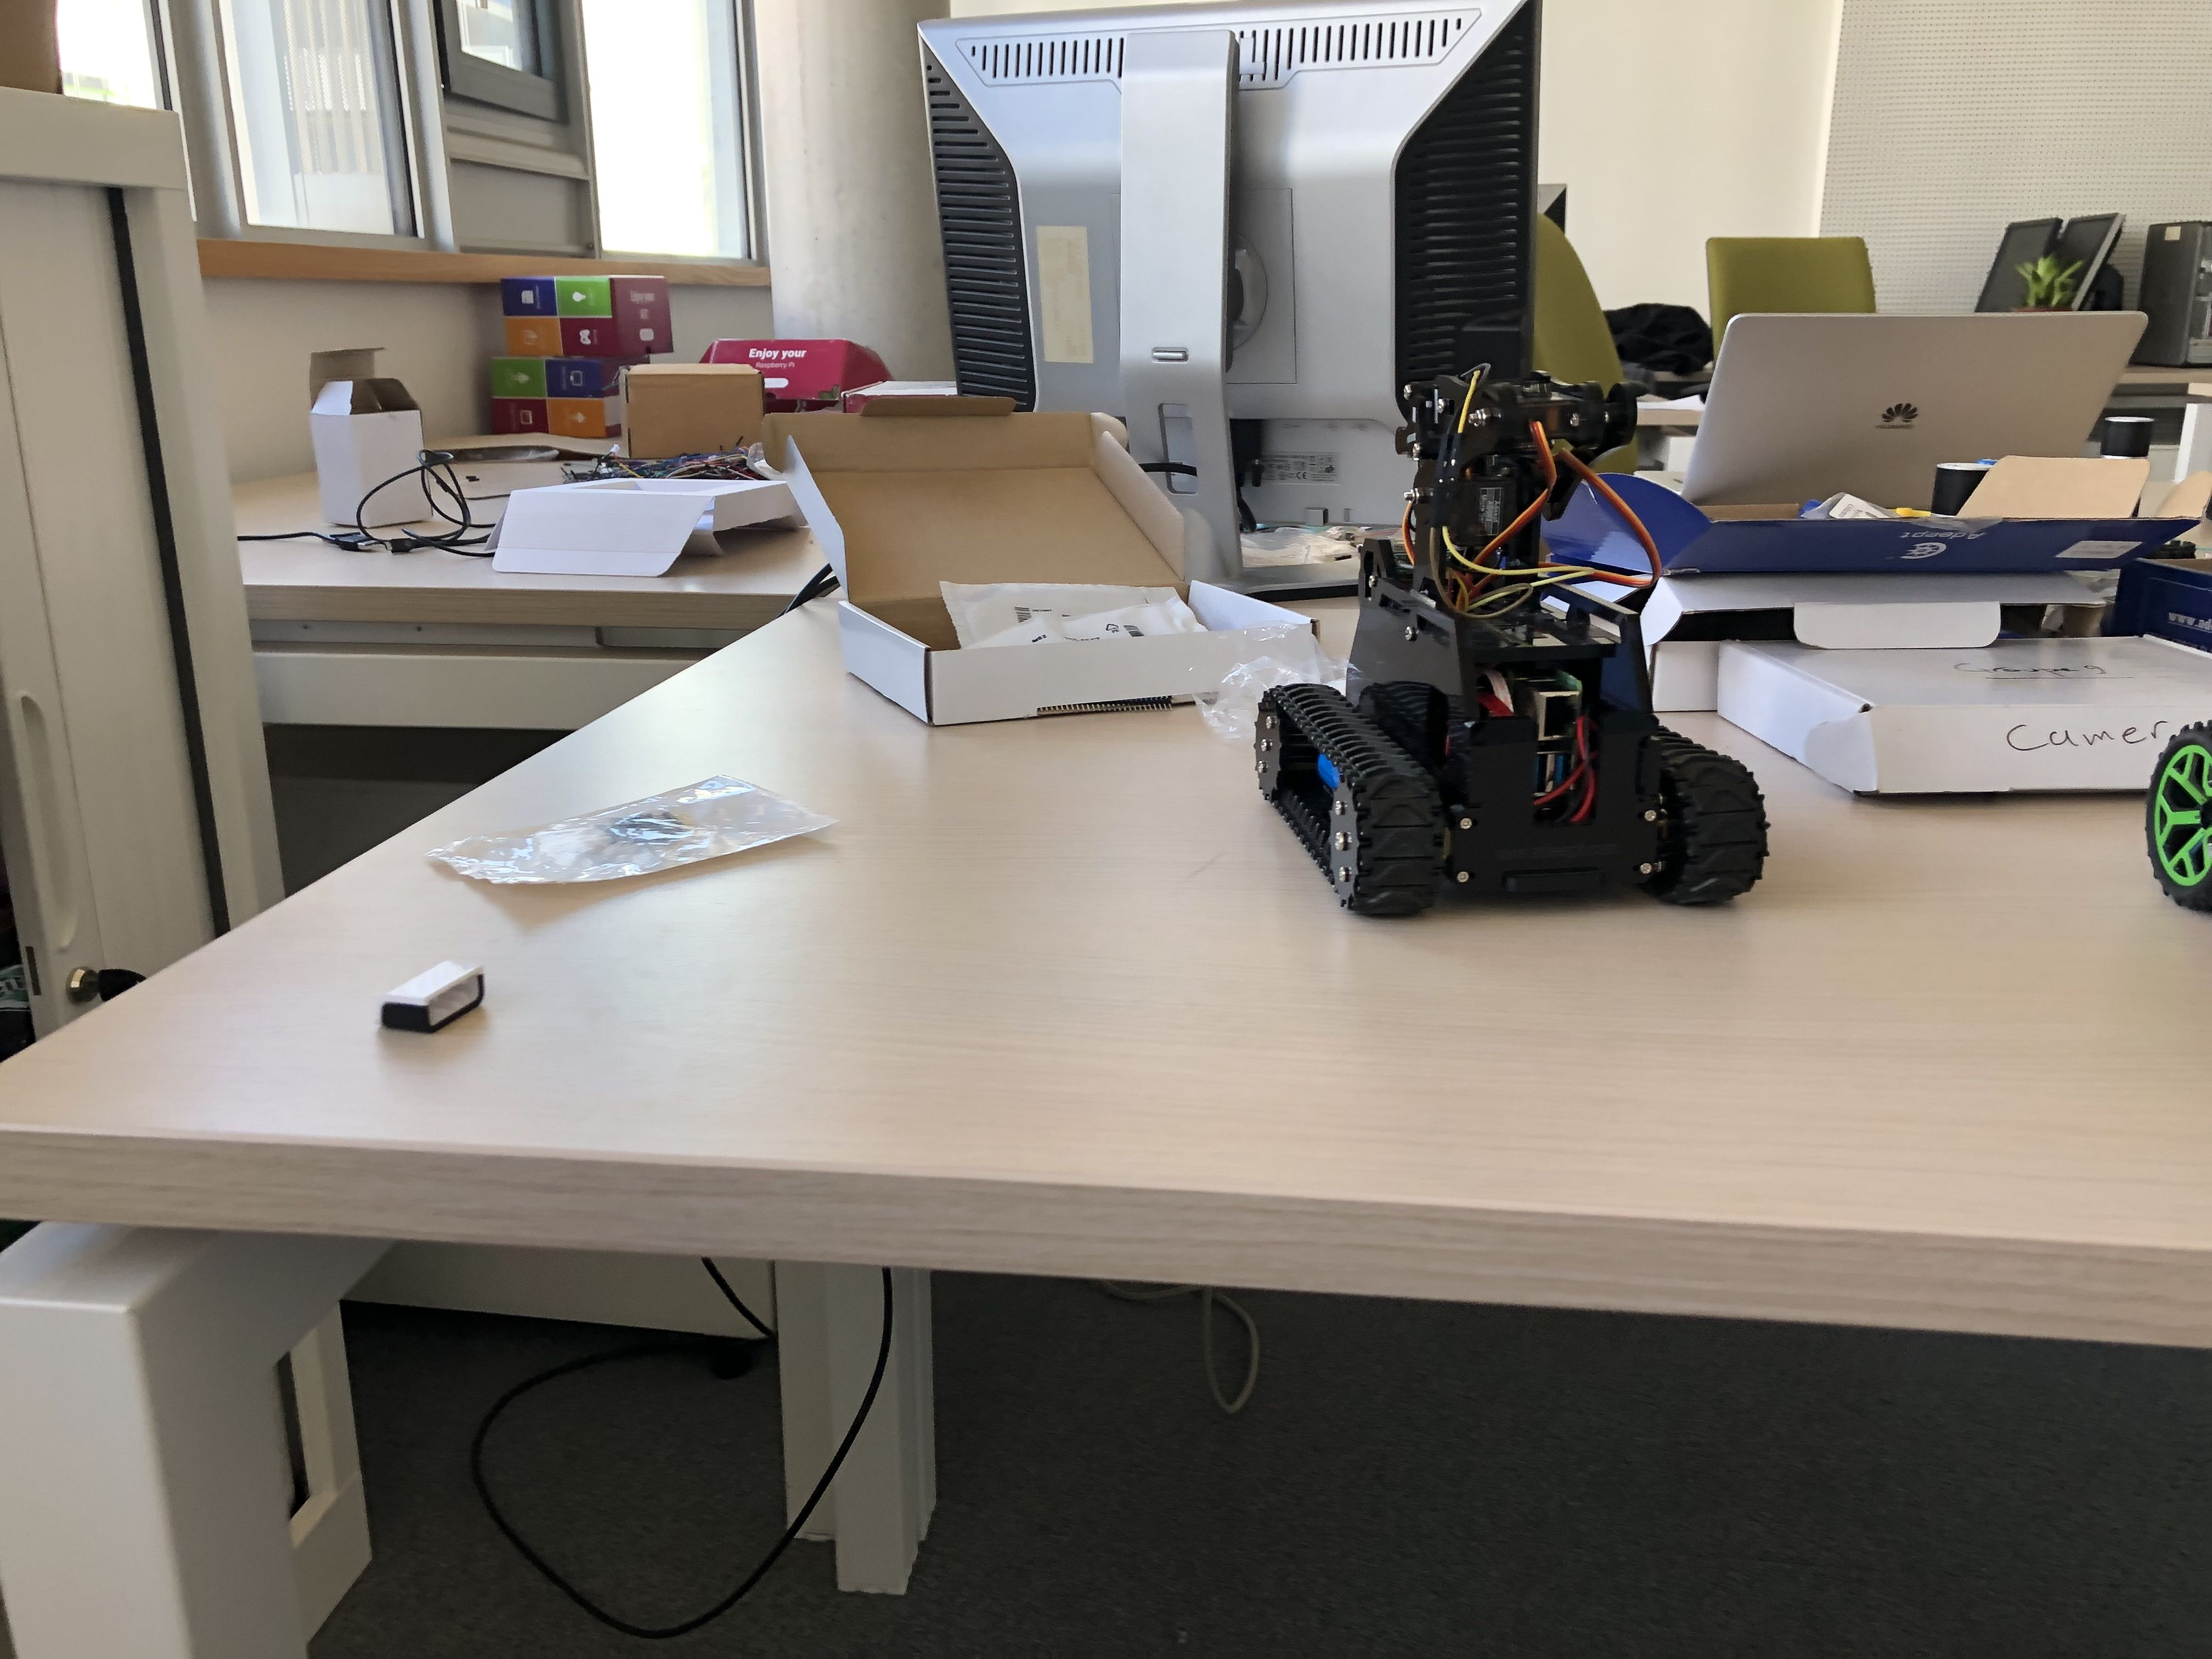rasptank: (1249, 359, 1797, 922)
